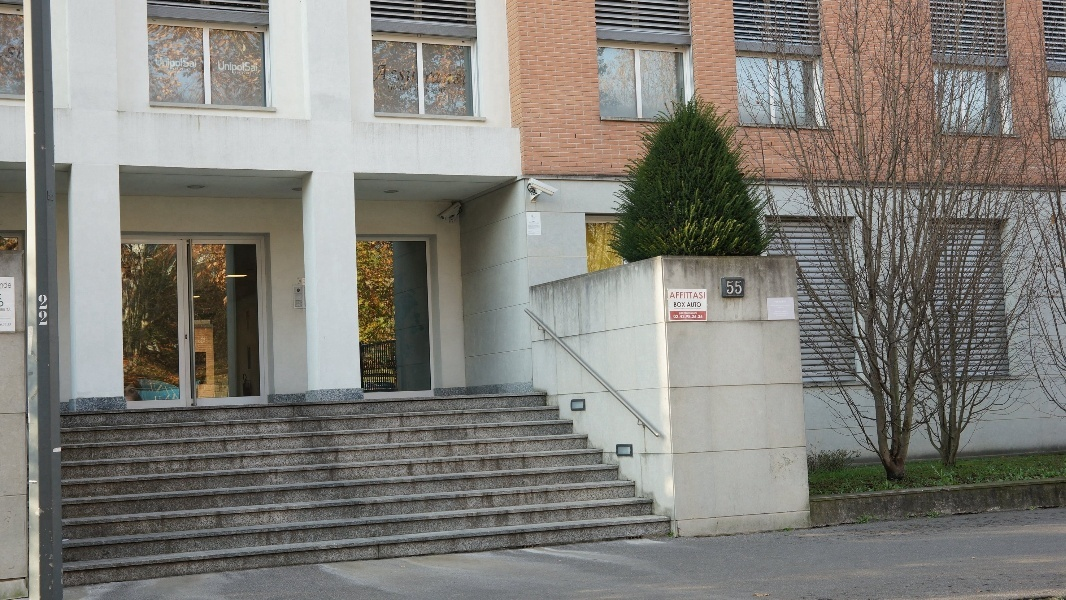text: (401, 63, 417, 82), (385, 63, 400, 82), (39, 295, 48, 325), (433, 69, 448, 86), (449, 69, 464, 86), (225, 61, 240, 75), (241, 61, 256, 75), (161, 57, 176, 70), (177, 57, 192, 70), (424, 69, 432, 86), (401, 84, 417, 92), (727, 281, 736, 295), (1, 282, 16, 289), (673, 292, 688, 299), (689, 292, 704, 299), (433, 86, 446, 93), (389, 84, 400, 92), (218, 61, 224, 75), (380, 63, 384, 82), (737, 281, 742, 295), (155, 57, 160, 70), (689, 302, 702, 307), (674, 303, 688, 307), (674, 315, 688, 319), (689, 315, 703, 319), (193, 57, 197, 70), (465, 69, 468, 86), (1, 308, 16, 311), (427, 86, 432, 93), (1, 324, 16, 326), (689, 312, 698, 315), (680, 312, 688, 315), (257, 61, 258, 75), (705, 292, 706, 299)
